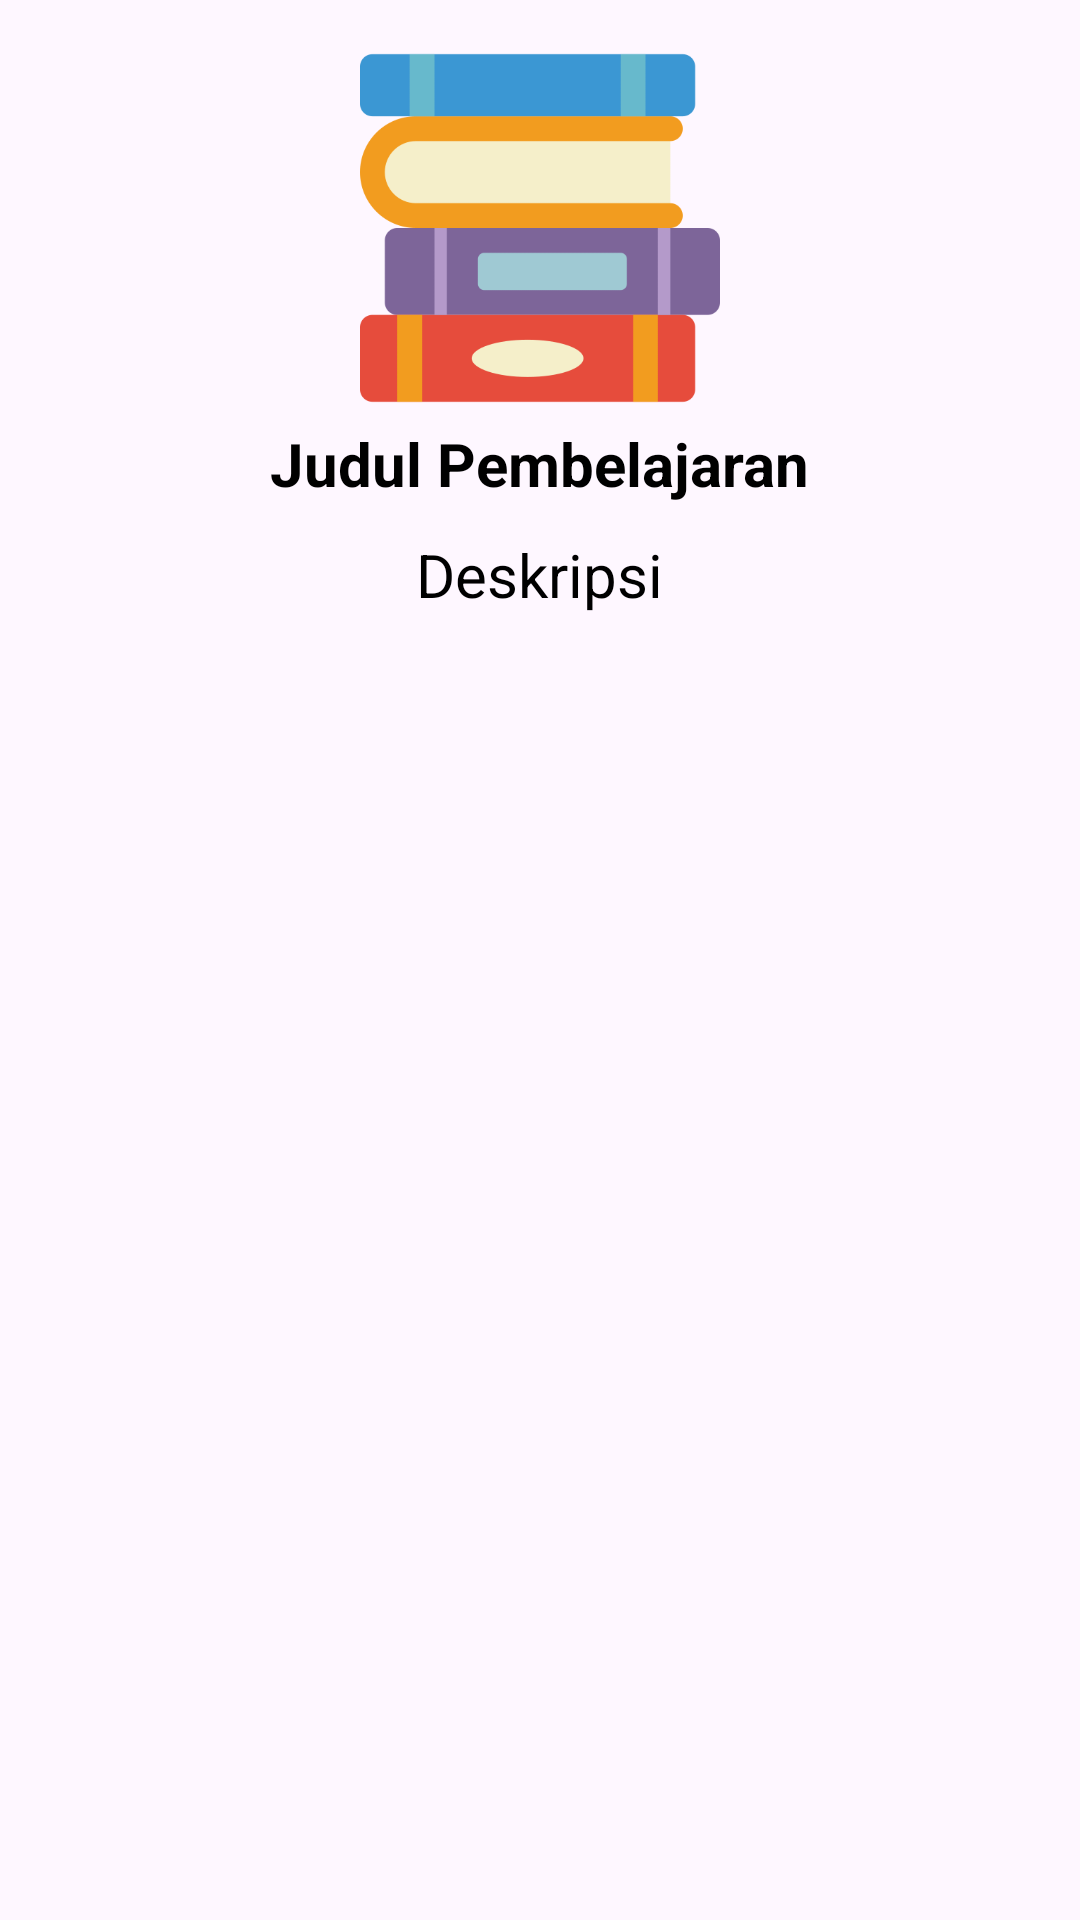

Icons on this 1080x1920 Android screen, each with its box as (x1, y1, x2, y2):
book: (360, 54, 720, 402)
